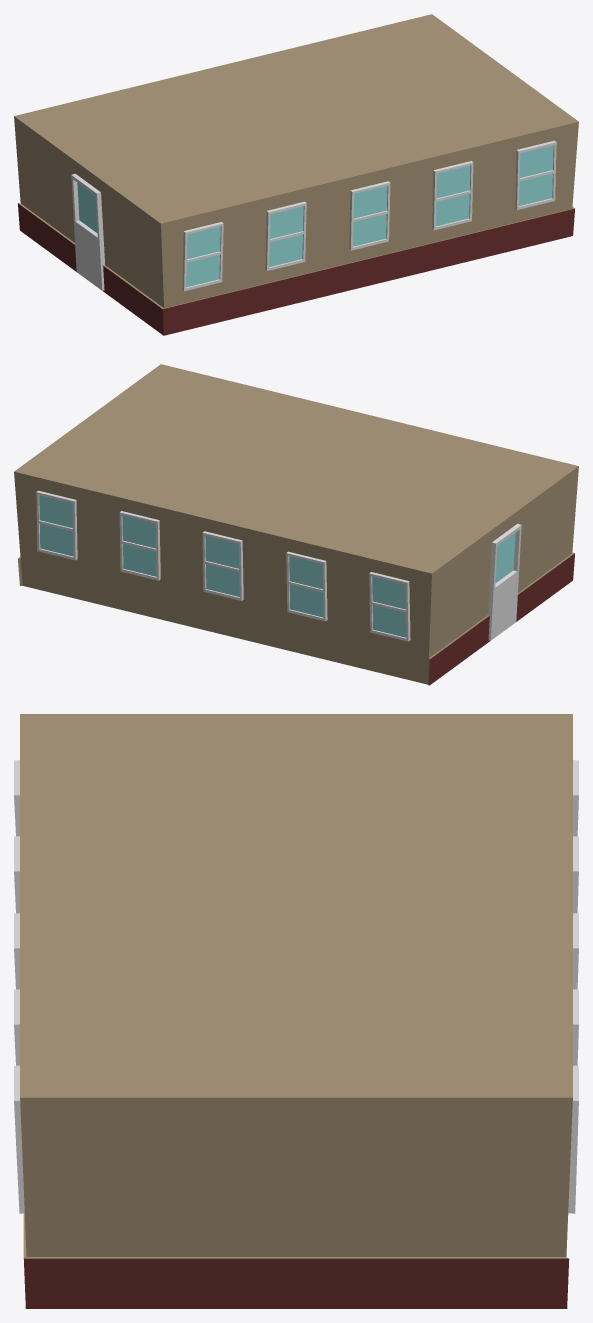
Rendered from Building11bottom.fbx.
The picture shows the model from 3 angles, top to bottom: view 1: azimuth 30°, elevation 25°; view 2: azimuth 150°, elevation 25°; view 3: azimuth 270°, elevation 25°; orthographic projection. The views are drawn at different scales.
Visible parts, largest first — view 1: polySurface54; view 2: polySurface54; view 3: polySurface54.
Part boxes in pixels (x1=…): polySurface54: x1=14, y1=14, x2=578, y2=335; polySurface54: x1=14, y1=364, x2=578, y2=685; polySurface54: x1=14, y1=714, x2=578, y2=1308.
Bounding box in the file's own units: 7.6 × 1.97 × 4.69.
